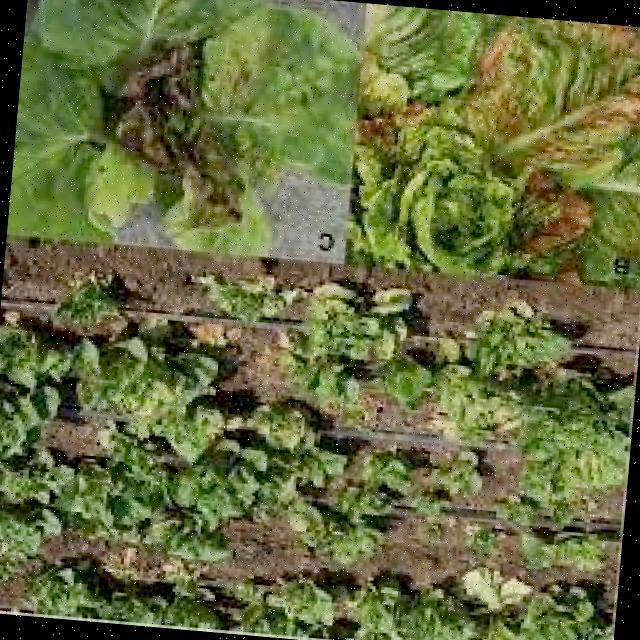Lettuce Mosaic Virus: (369, 14, 640, 244), (57, 4, 260, 238)
